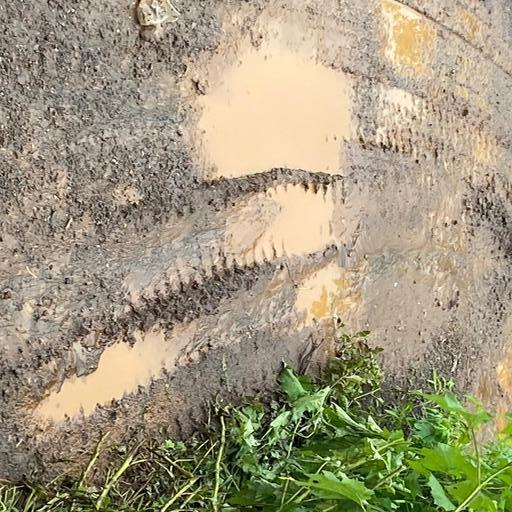vehicle_track: (0, 0, 512, 468)
